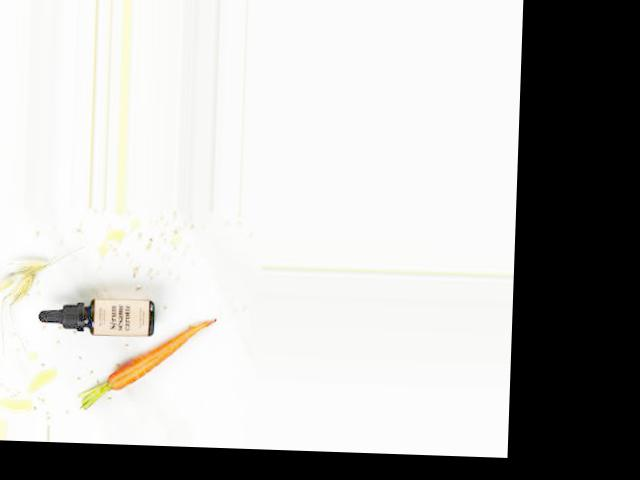carrot: (100, 301, 225, 401)
